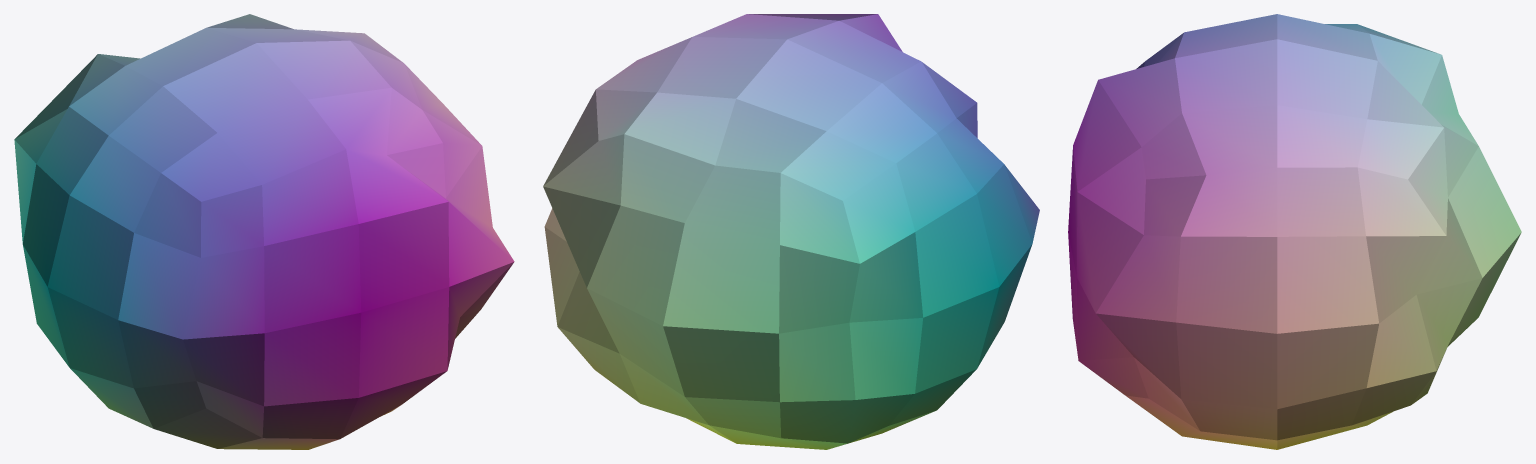
The model's file is env_deco_paperball.glb.
3 views of the same model, side by side, from view 1: azimuth 30°, elevation 25°; view 2: azimuth 150°, elevation 25°; view 3: azimuth 270°, elevation 25° (orthographic).
Visible parts, largest first — view 1: env_deco_paperball_mesh; view 2: env_deco_paperball_mesh; view 3: env_deco_paperball_mesh.
Boxes of the visible parts, x1,y1,x2,y2 form: env_deco_paperball_mesh: (14, 14, 514, 449); env_deco_paperball_mesh: (543, 14, 1039, 449); env_deco_paperball_mesh: (1068, 14, 1521, 449).
Bounding box in the file's own units: 0.34 × 0.3 × 0.32.
